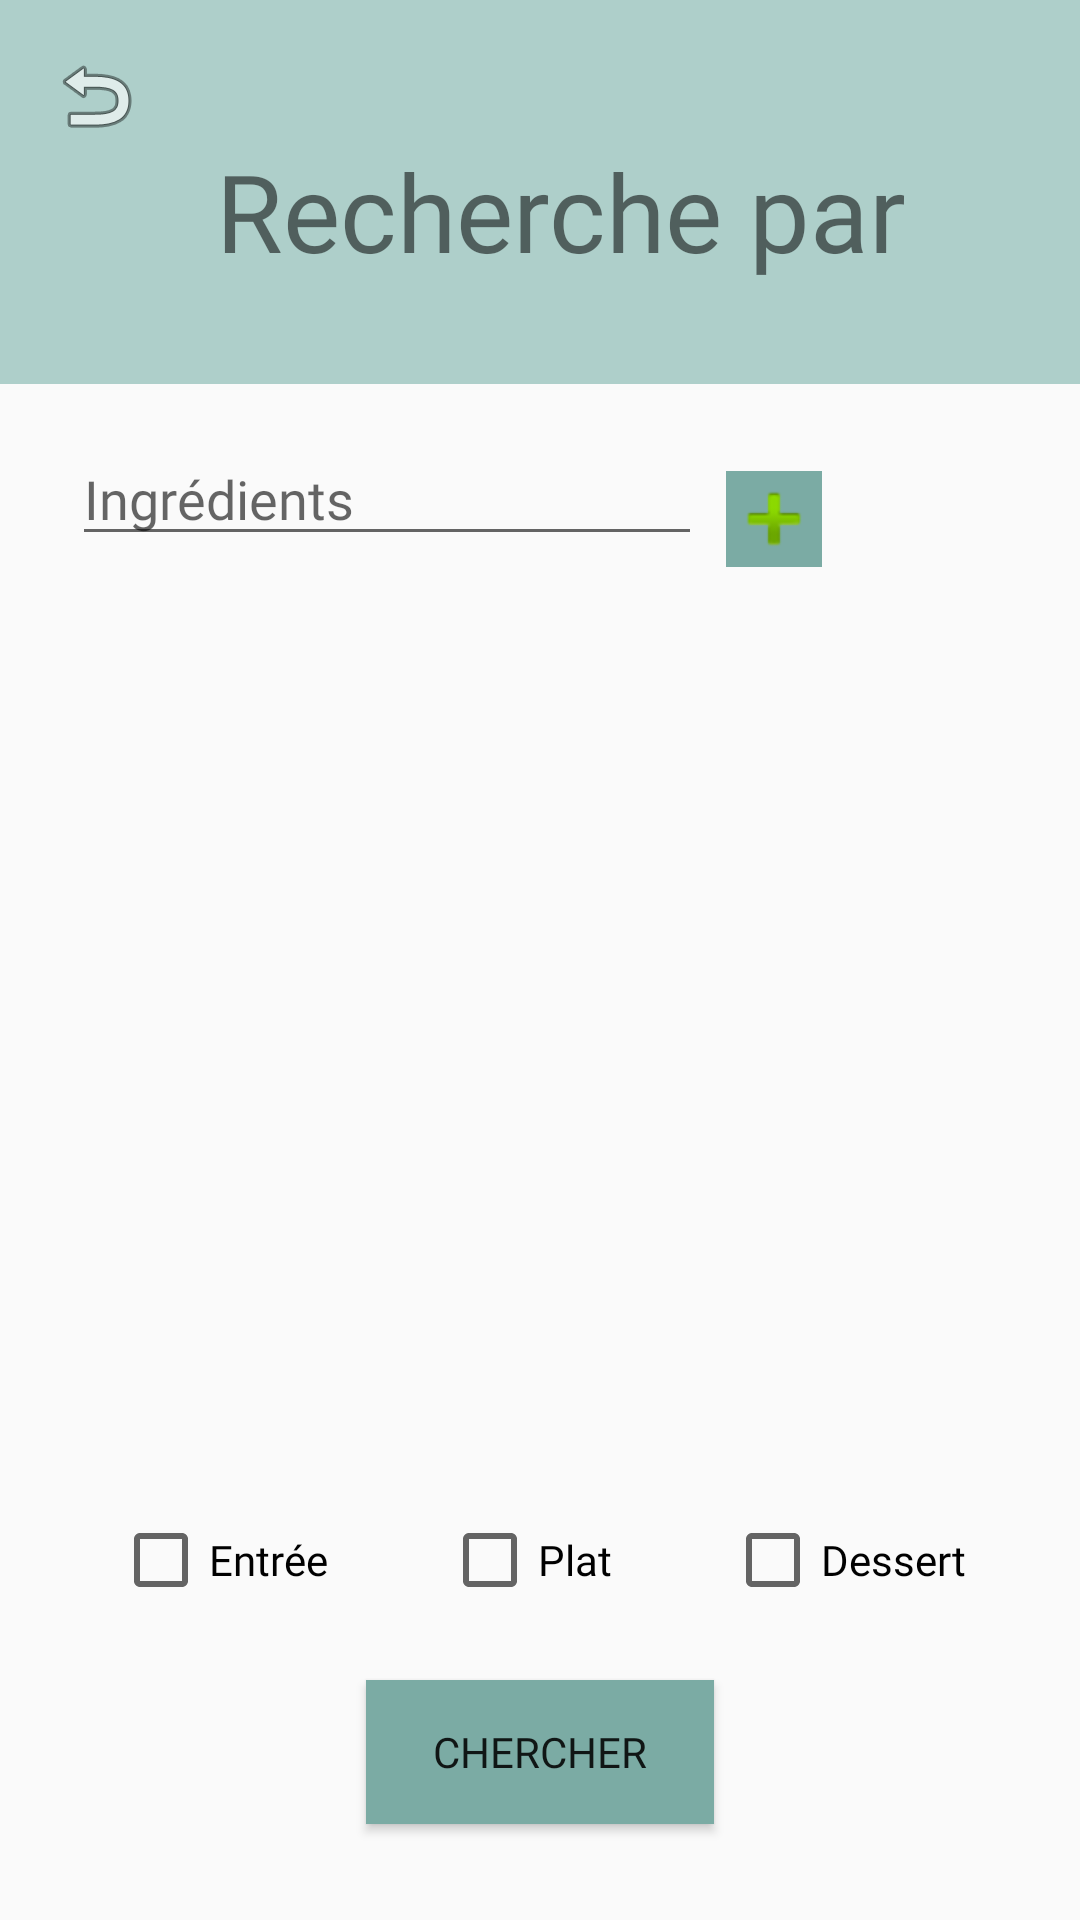

Icon click points for this 1080 × 1920 phone screenshot, format (x=x, y=y):
add: (x=774, y=519)
revert: (x=97, y=96)
